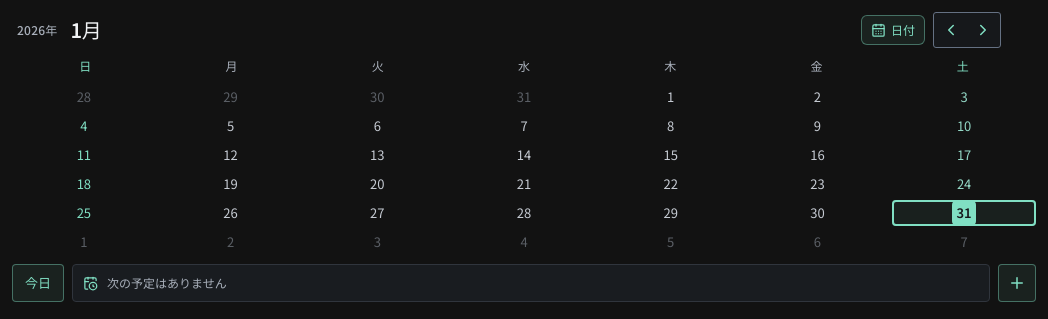
Scenario: MonthCalendar › clamps the focused date when the next month is shorter
Click the button named "次の月". click: click(983, 30)
box: [968,15,998,45]
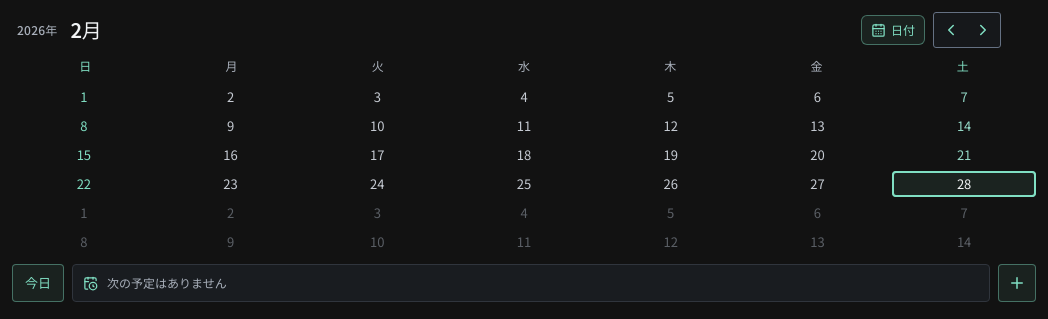
Now the heading "2026年 2月" is shown, box [17,15,101,44]
